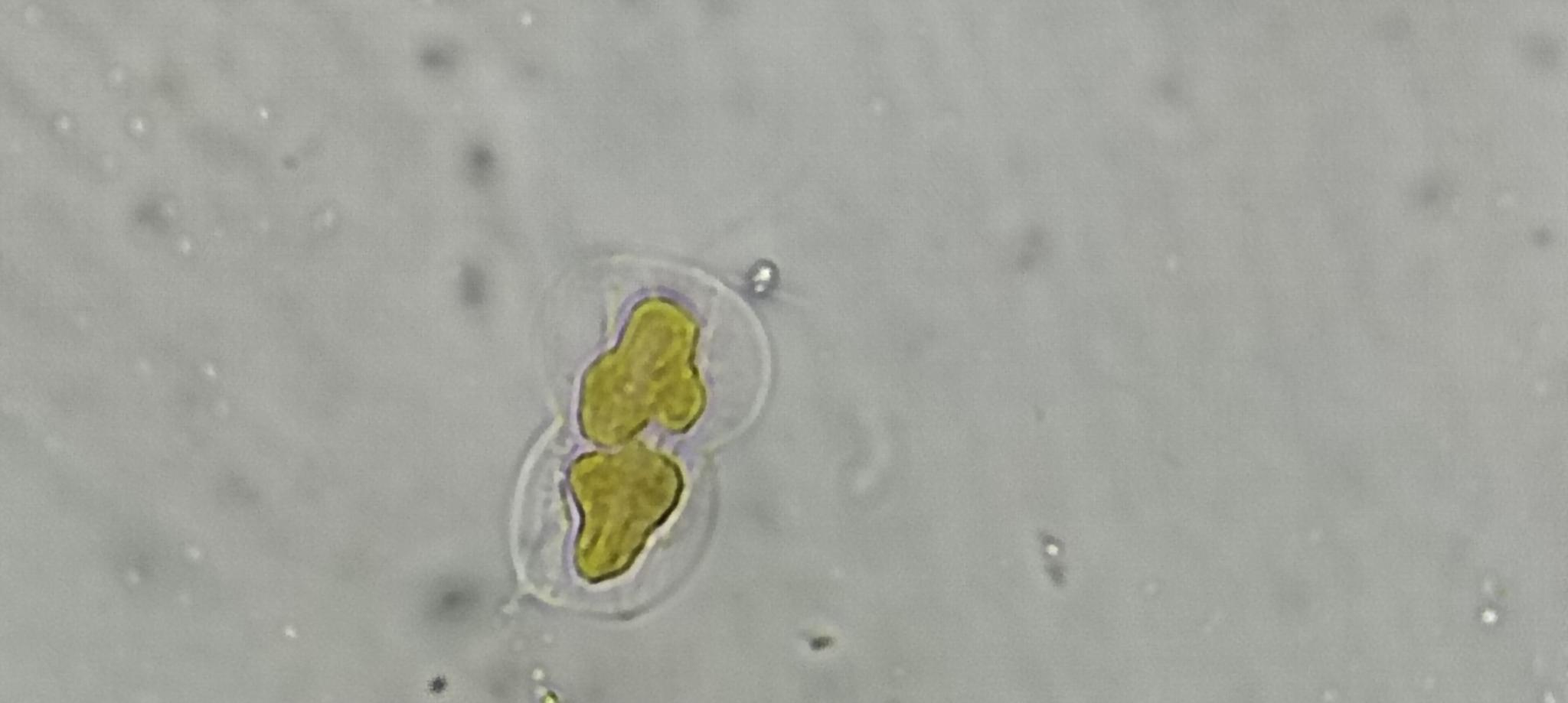Euglena: (455, 219, 790, 631)
